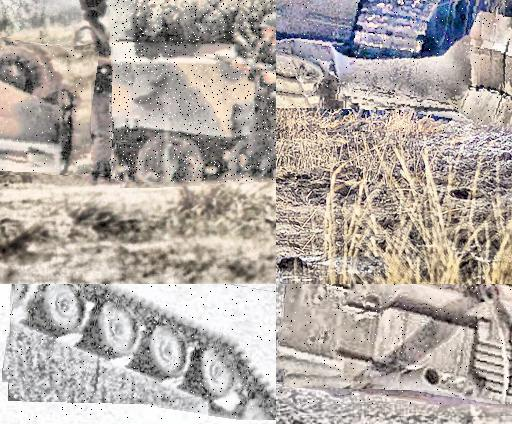tanks: (3, 285, 277, 421), (111, 1, 277, 183), (277, 1, 512, 128), (278, 285, 512, 405), (1, 39, 86, 176)
